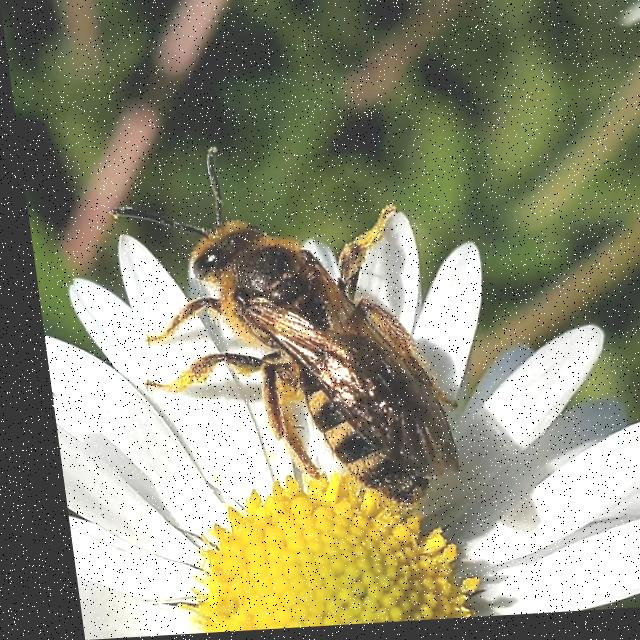Lasioglossum: (88, 121, 473, 534)
